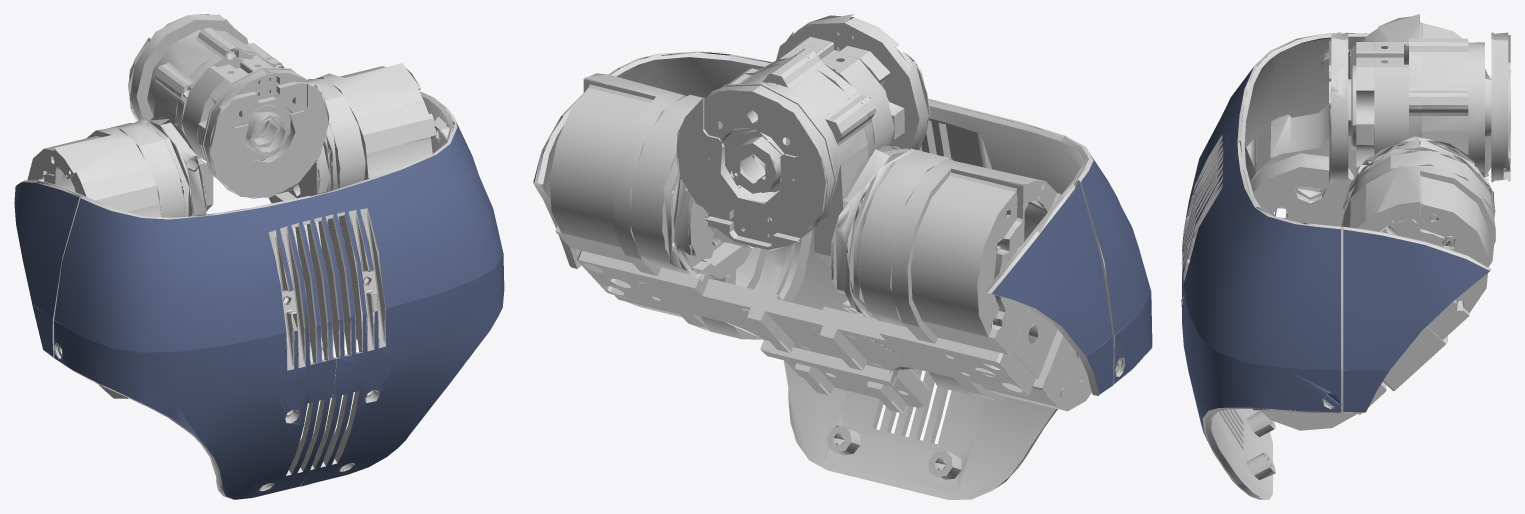
The model's file is icub_lap_belt_1.glb.
The picture shows the model from 3 angles, left to right: view 1: azimuth 30°, elevation 25°; view 2: azimuth 150°, elevation 25°; view 3: azimuth 270°, elevation 25°; orthographic projection. The views are drawn at different scales.
Parts seen in each view (by area): view 1: pelvis_mesh, pelvis_mesh.001; view 2: pelvis_mesh.001, pelvis_mesh; view 3: pelvis_mesh.001, pelvis_mesh.
Part boxes in pixels (x1=…): pelvis_mesh: x1=14, y1=96, x2=504, y2=499; pelvis_mesh.001: x1=15, y1=14, x2=504, y2=499; pelvis_mesh.001: x1=533, y1=14, x2=1152, y2=499; pelvis_mesh: x1=533, y1=52, x2=1152, y2=477; pelvis_mesh.001: x1=1181, y1=14, x2=1510, y2=499; pelvis_mesh: x1=1181, y1=33, x2=1489, y2=496.
Bounding box in the file's own units: 0.2204 × 0.1962 × 0.136.
